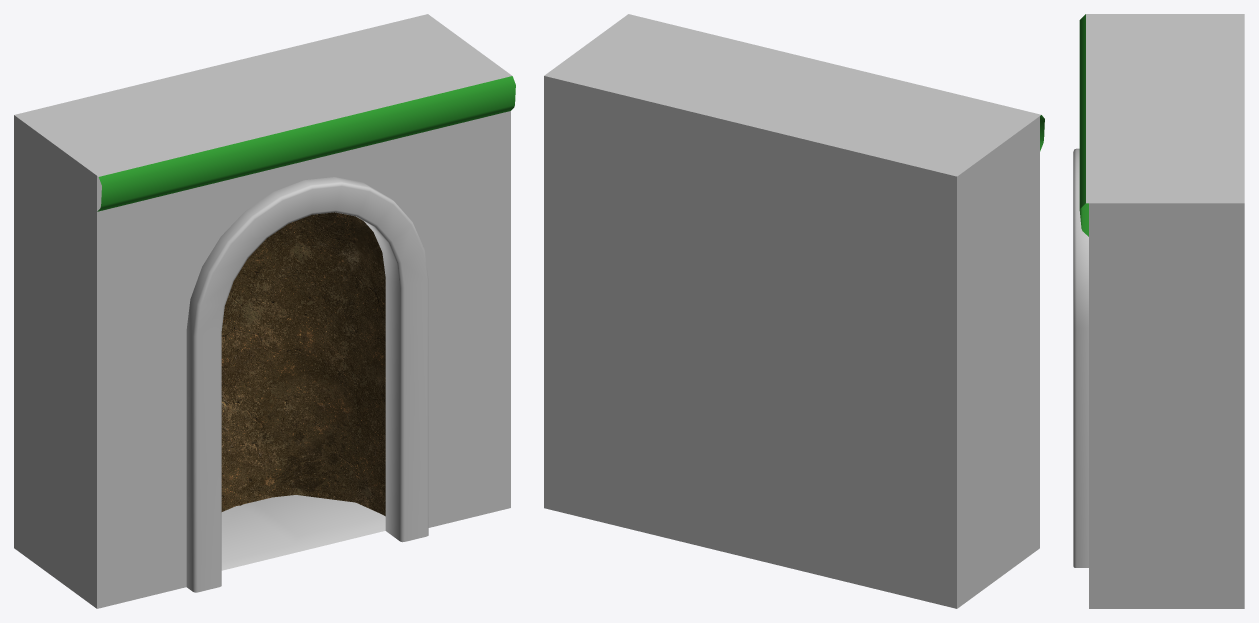
File: DG_WallAlcove_A.FBX
The picture shows the model from 3 angles, left to right: view 1: azimuth 30°, elevation 25°; view 2: azimuth 150°, elevation 25°; view 3: azimuth 270°, elevation 25°; orthographic projection. The views are drawn at different scales.
Visible parts, largest first — view 1: DG_WallAlcove_A; view 2: DG_WallAlcove_A; view 3: DG_WallAlcove_A.
Boxes of the visible parts, <box> form: DG_WallAlcove_A: <box>14,14,515,608</box>; DG_WallAlcove_A: <box>544,14,1044,608</box>; DG_WallAlcove_A: <box>1073,14,1244,608</box>.
Size of the model in its own units: 300 by 300 by 115.
